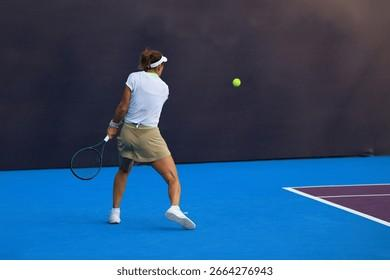ball_tennis: (232, 78, 242, 87)
